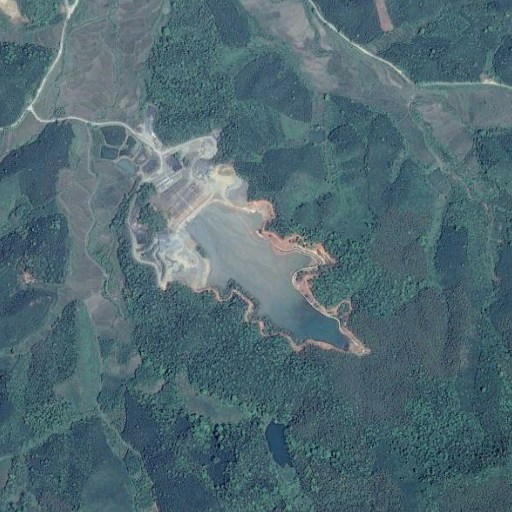tp: (146, 174, 367, 355)
